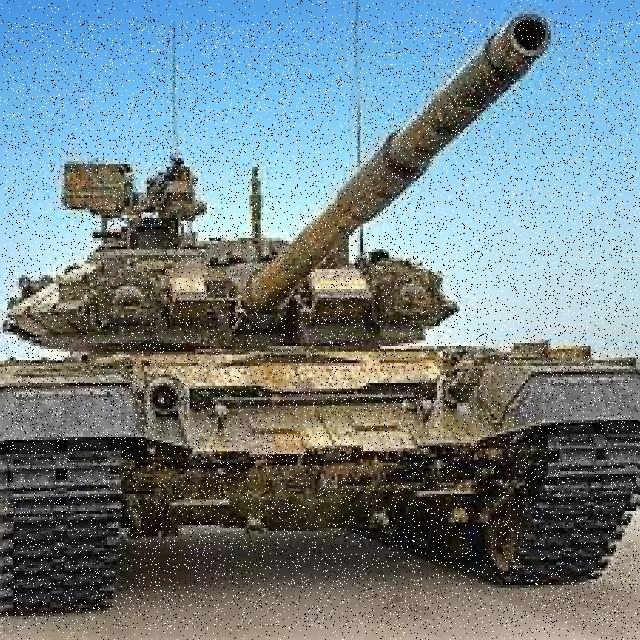MIL_MBT: (4, 21, 638, 629)
